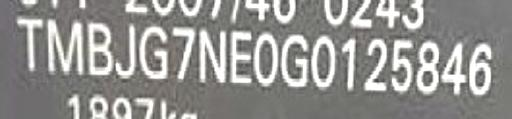letter: (44, 15, 84, 76), (195, 24, 229, 87), (278, 28, 310, 91), (11, 13, 45, 72), (137, 23, 169, 82), (468, 34, 496, 99), (85, 19, 115, 78), (362, 34, 390, 97), (168, 23, 196, 84), (251, 28, 279, 89), (414, 36, 442, 97), (441, 38, 469, 99), (309, 33, 337, 92), (390, 34, 416, 97), (228, 26, 254, 85), (114, 23, 136, 80), (340, 34, 358, 95)
